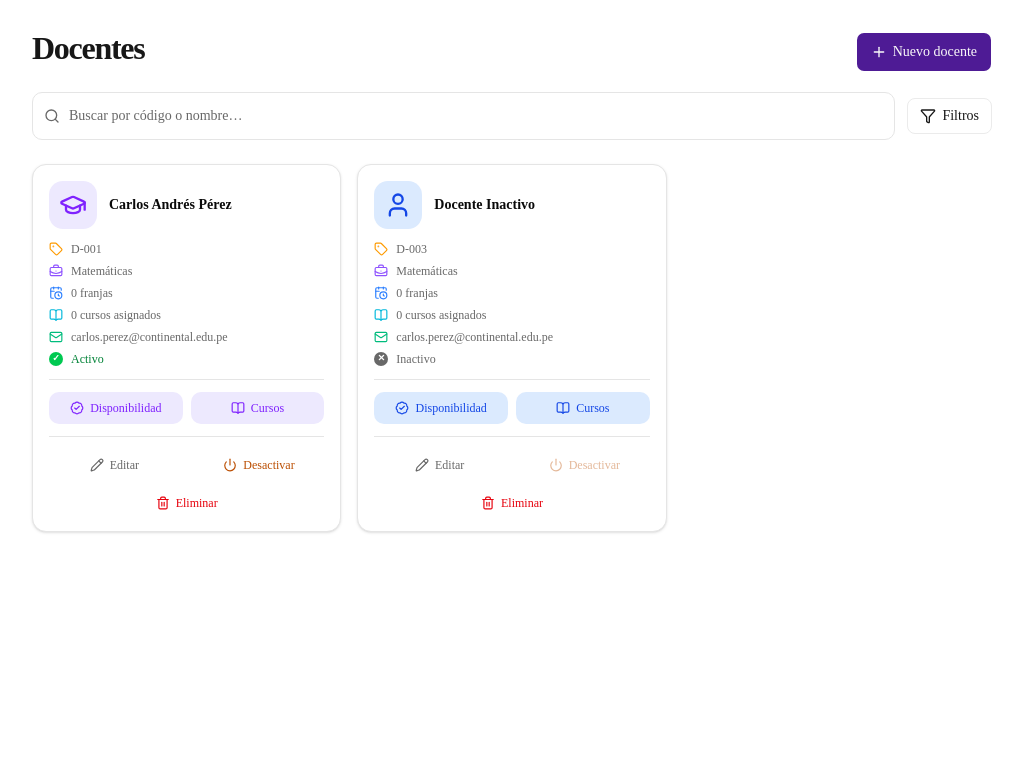
Test: TeachersPage (admin) › filtra por estado inactivo
expect the text "Carlos Andrés Pérez" is shown: met, box x1=109 y1=195 x2=232 y2=215
expect the text "Docente Inactivo" is shown: met, box x1=434 y1=195 x2=535 y2=215
Click the button "Filtros".
click(950, 116)  # box x1=907 y1=98 x2=992 y2=134
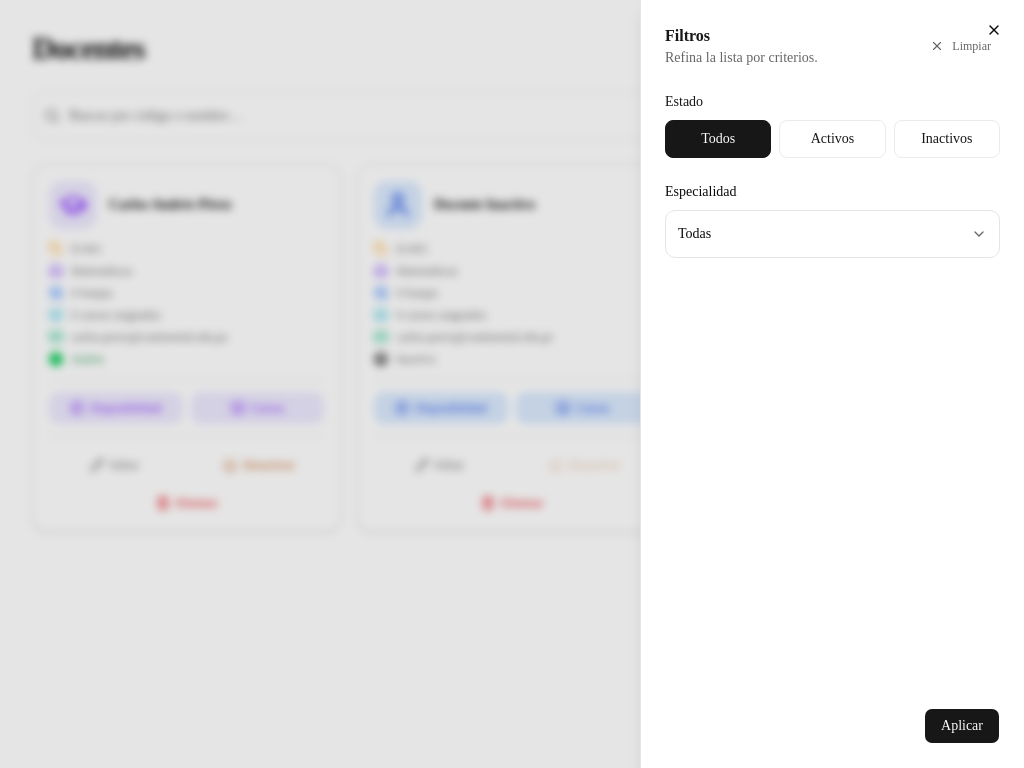
Click the button "Inactivos".
click(947, 139)  # box x1=894 y1=120 x2=1000 y2=158
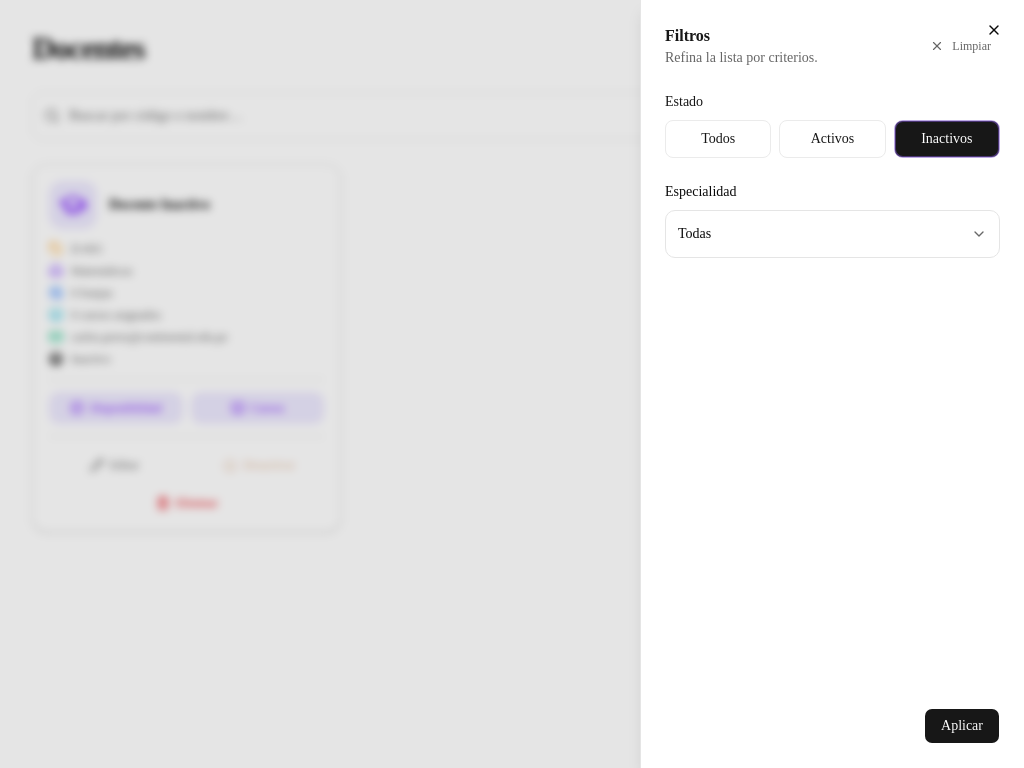
expect the text "Docente Inactivo" is shown: met, box x1=109 y1=195 x2=210 y2=215
expect the text "Carlos Andrés Pérez" is gone: met
